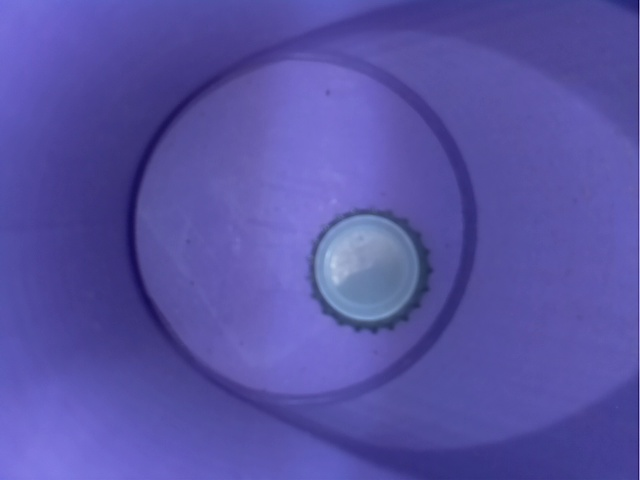capsule: (286, 196, 444, 334)
